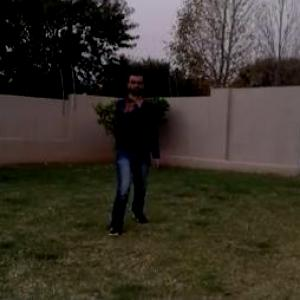takeoff-hand: (117, 91, 139, 124)
